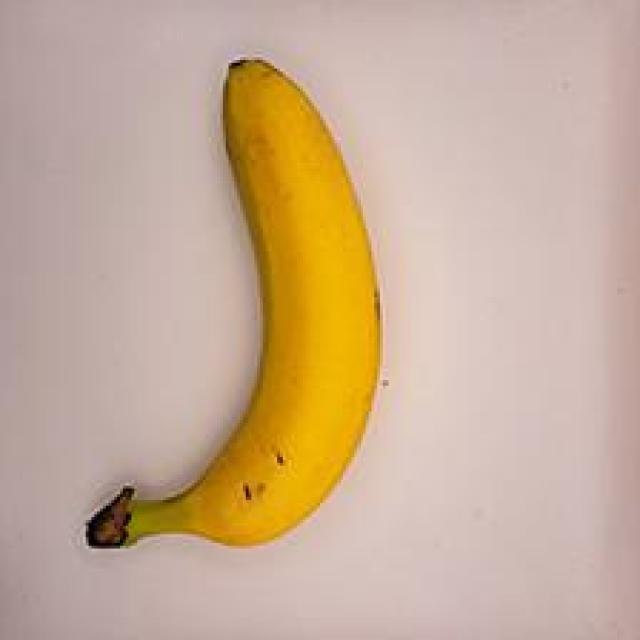Ripe: (75, 32, 409, 568)
